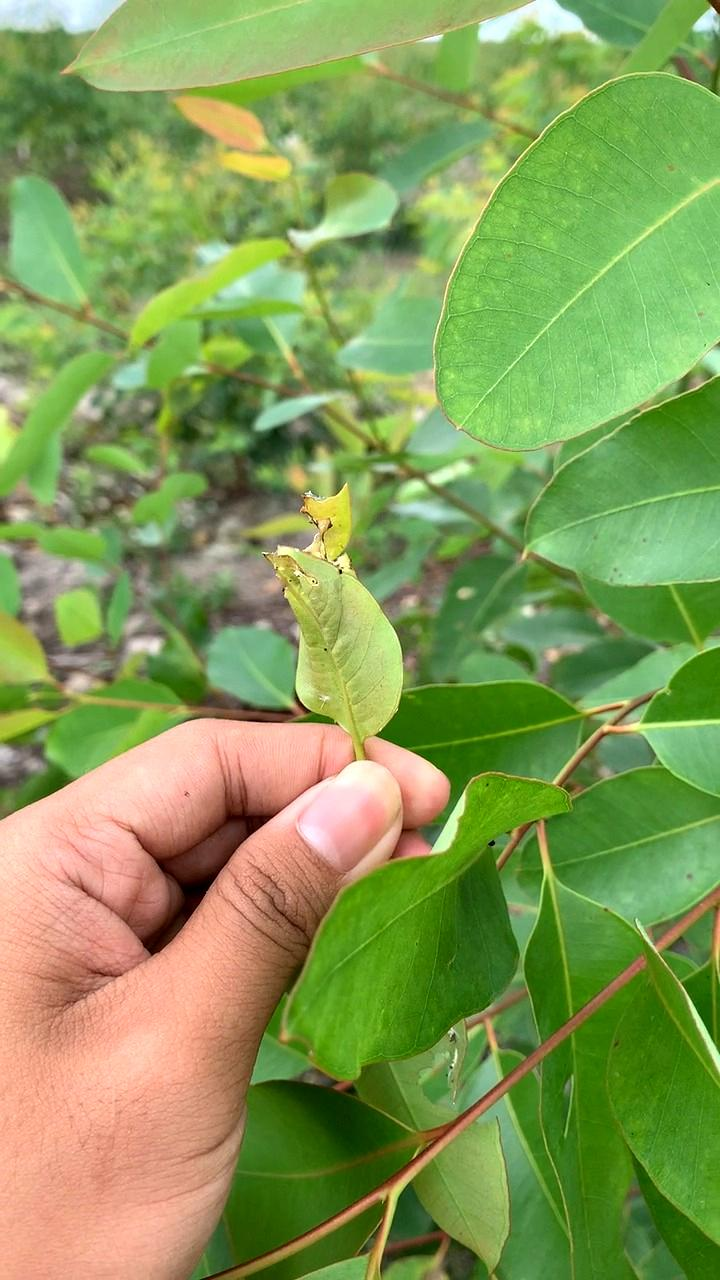Leaf Roller - Leaf: (246, 475, 433, 753)
